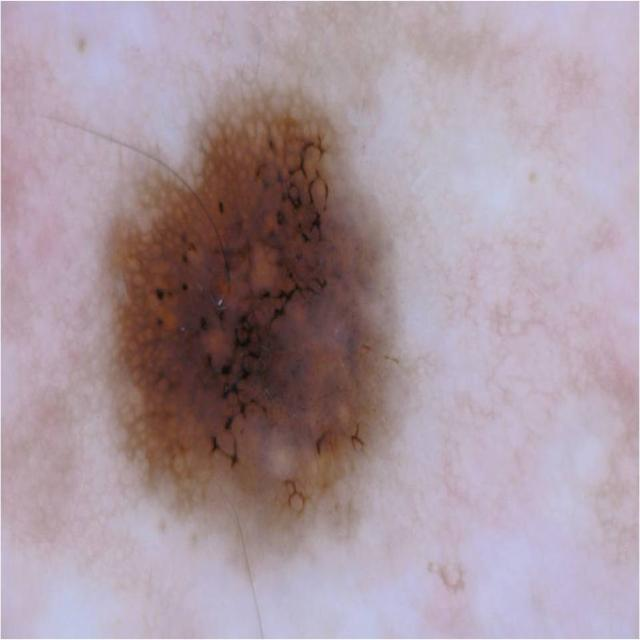Benign: (101, 80, 424, 548)
